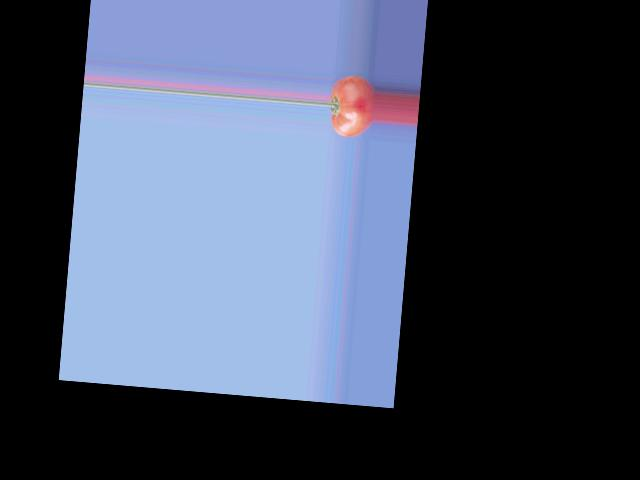tomato: (327, 73, 377, 138)
